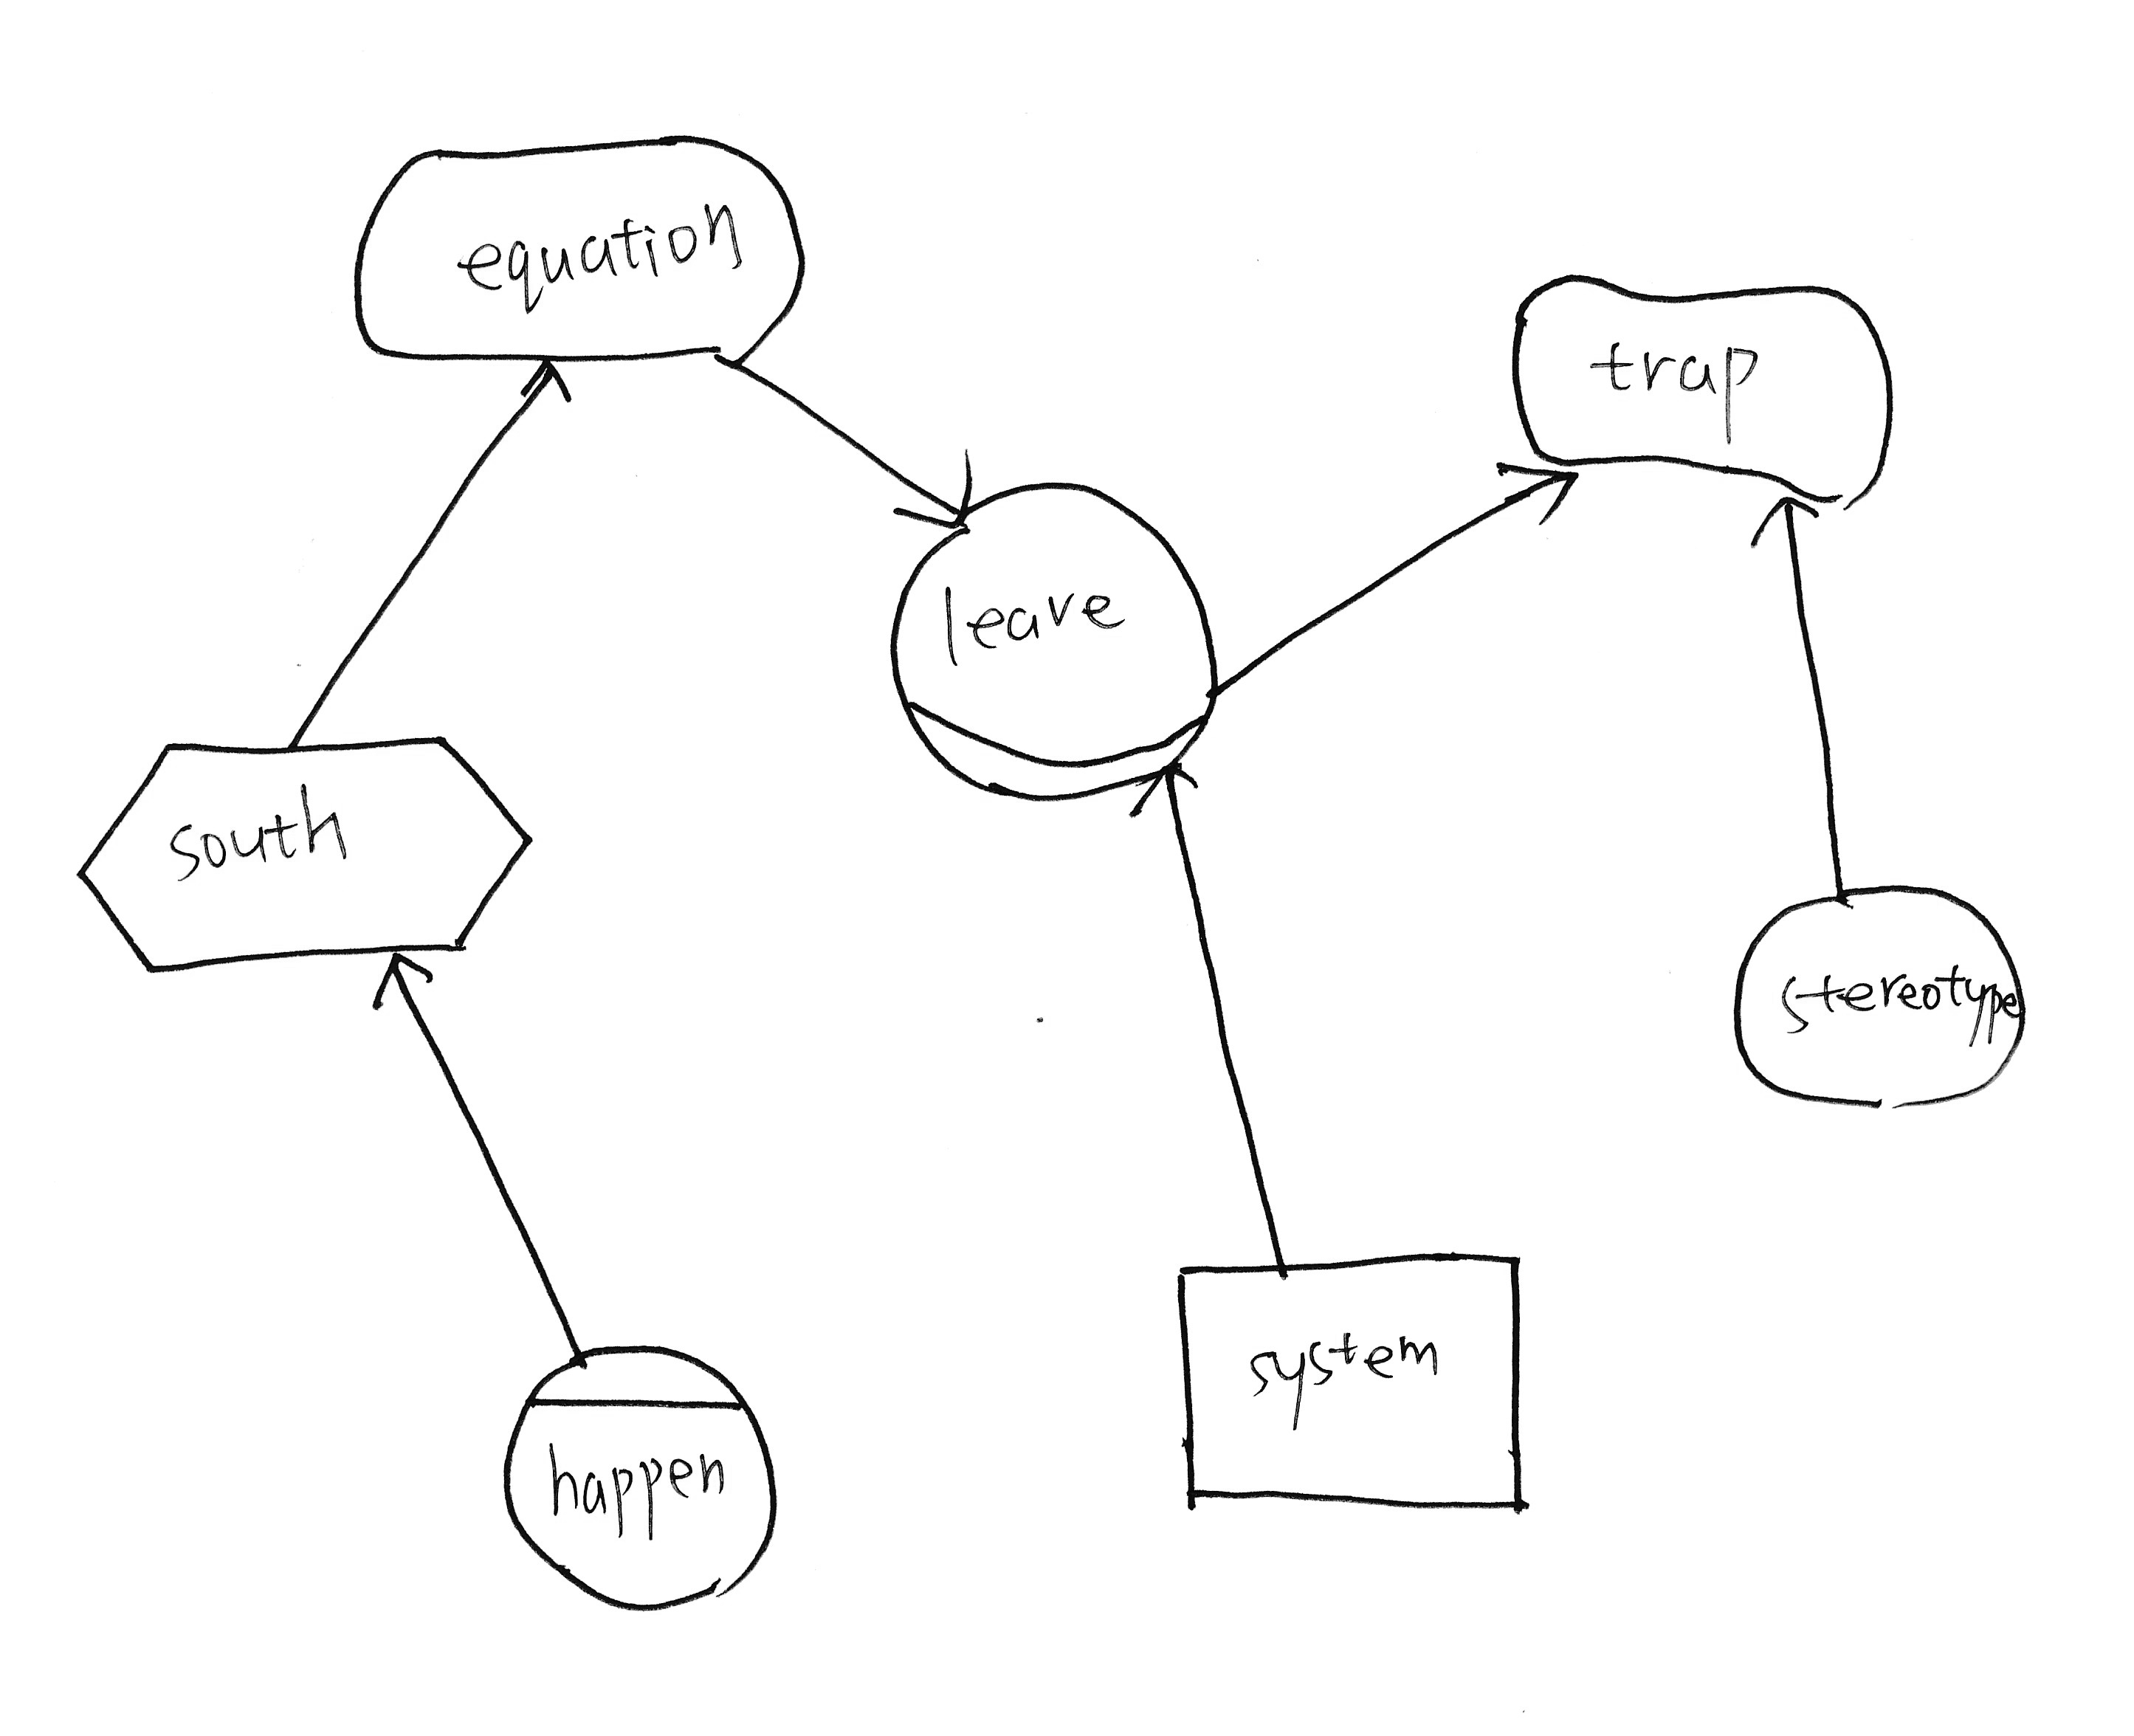agent: (492, 1316, 800, 1624)
arrow: (878, 443, 1002, 544), (1475, 443, 1589, 542), (351, 930, 453, 1031), (1732, 484, 1836, 565), (1116, 749, 1222, 829), (503, 351, 591, 418)
goal: (335, 110, 823, 395), (1718, 875, 2042, 1121)
quality: (1491, 257, 1920, 524)
resource: (1140, 1226, 1557, 1538)
role: (871, 461, 1240, 836)
task: (53, 716, 558, 999)
